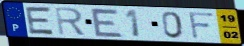0: (161, 11, 185, 39)
1: (124, 8, 141, 39)
E: (89, 7, 126, 38), (24, 6, 57, 36)
F: (187, 11, 216, 40)
R: (54, 6, 88, 36)
